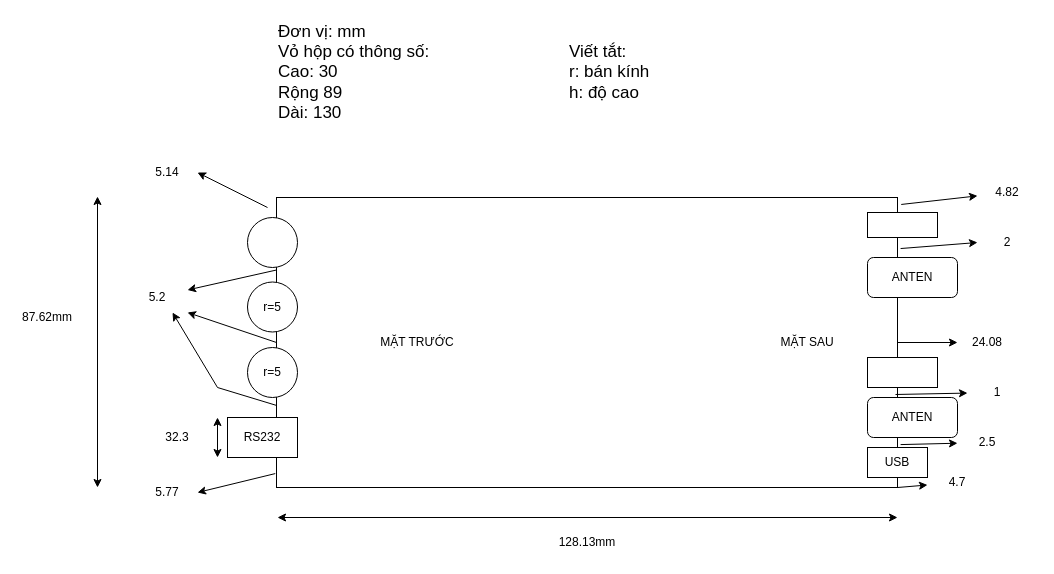
Some shapes in this 1054 by 574 pixel diagram are drawn without their labels. Each missing label, with the box of its shape:
Khe SIM: (866, 356, 938, 388)
Led: (866, 212, 938, 238)
r = 5: (246, 216, 298, 268)
